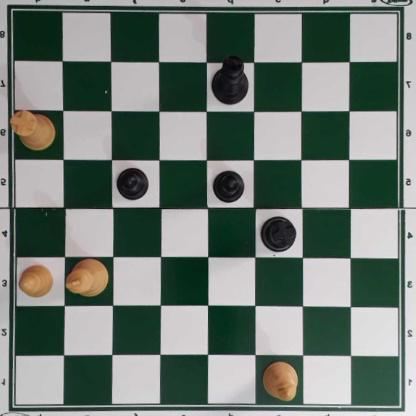black-king: (212, 53, 249, 104)
black-pawn: (212, 169, 247, 203), (116, 166, 150, 200)
black-rook: (260, 215, 297, 251)
white-bishop: (264, 359, 301, 401)
white-king: (65, 257, 109, 298)
white-pawn: (18, 264, 54, 297)
white-rook: (9, 109, 56, 149)
